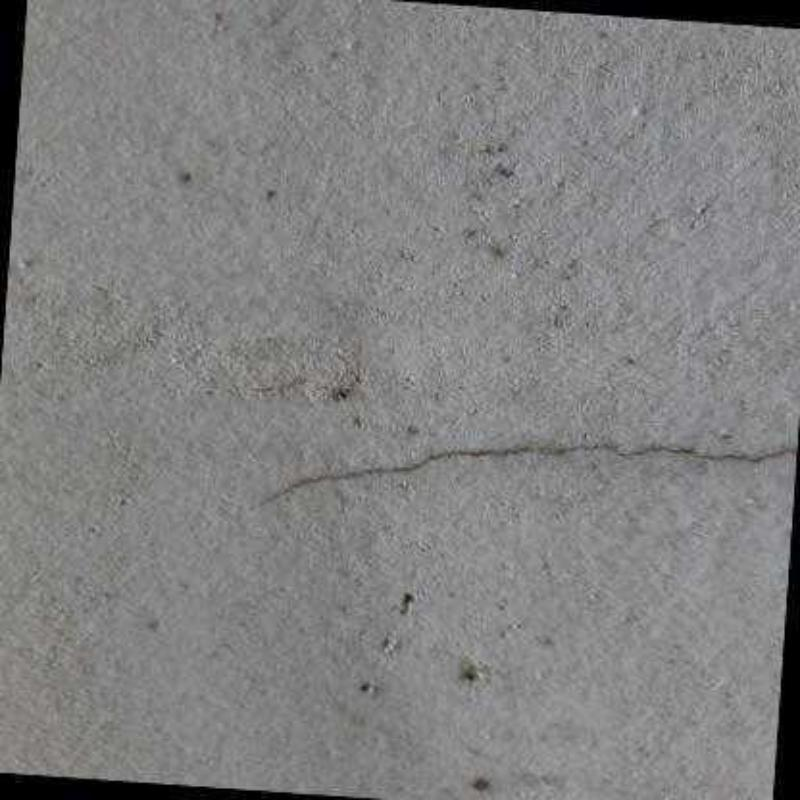pothole: (247, 439, 798, 510)
